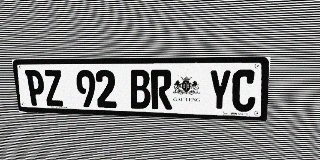2: (95, 70, 117, 108)
9: (75, 70, 97, 107)
B: (129, 70, 151, 109)
C: (231, 70, 257, 112)
P: (25, 70, 46, 106)
R: (150, 70, 172, 110)
Y: (208, 70, 232, 111)
Z: (43, 70, 64, 106)
